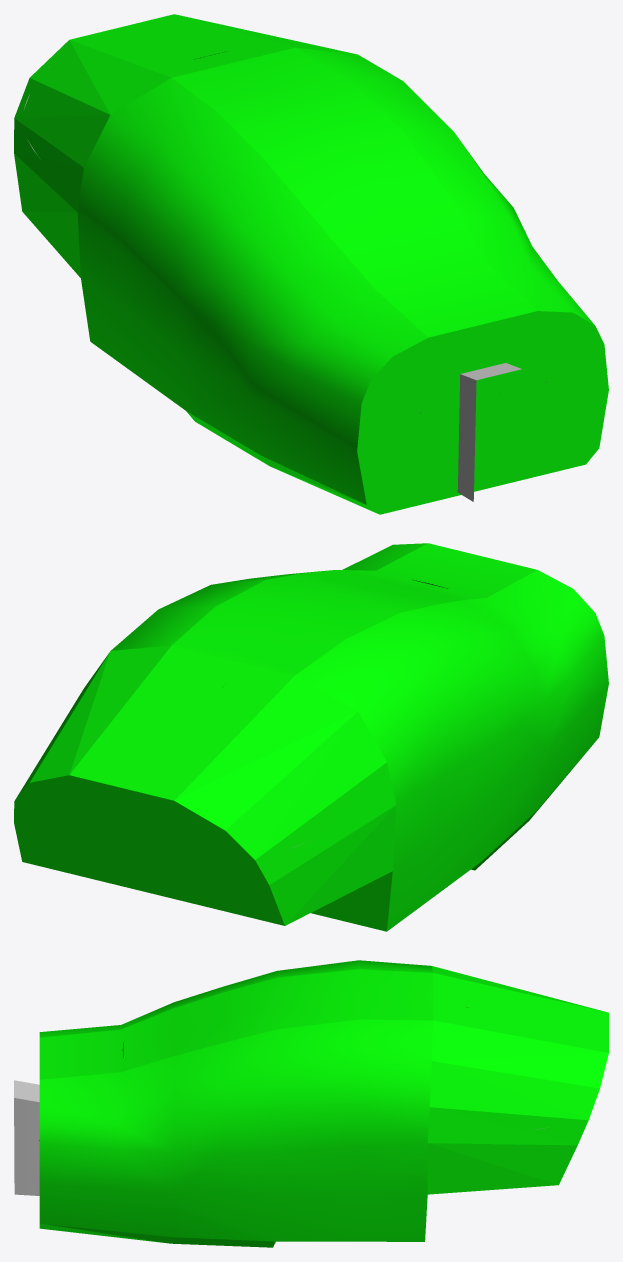
File: VL3_cockpit_lod1.gltf
3 renders of one model, top to bottom at view 1: azimuth 30°, elevation 25°; view 2: azimuth 150°, elevation 25°; view 3: azimuth 270°, elevation 25°, orthographic. The views are drawn at different scales.
Parts seen in each view (by area): view 1: Occluder, Main_Panel; view 2: Occluder; view 3: Occluder, Main_Panel.
Part boxes in pixels (<box>): Occluder: <box>14,14,608,514</box>; Main_Panel: <box>24,66,521,501</box>; Occluder: <box>14,543,608,931</box>; Occluder: <box>39,960,608,1247</box>; Main_Panel: <box>14,1080,544,1244</box>.
Size of what is drawn, in the model's own units: 1.13 by 0.8652 by 2.32.
